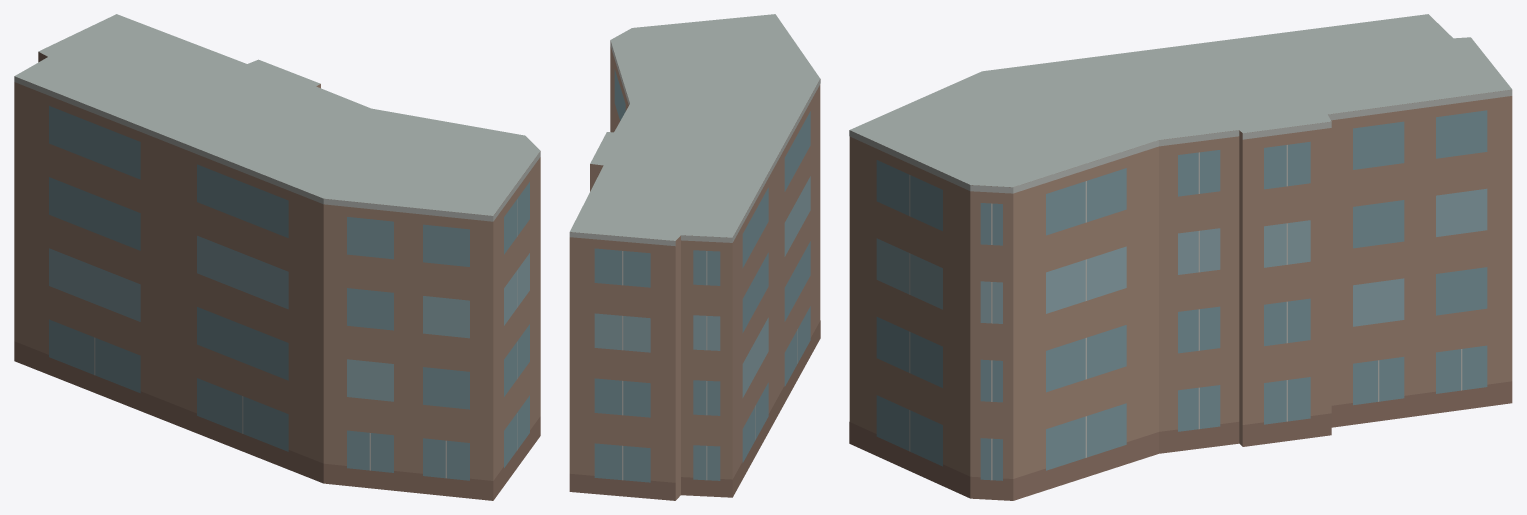
The model's file is survey-upis-32516284.glb.
The picture shows the model from 3 angles, left to right: view 1: azimuth 30°, elevation 25°; view 2: azimuth 150°, elevation 25°; view 3: azimuth 270°, elevation 25°; orthographic projection. The views are drawn at different scales.
Parts seen in each view (by area): view 1: survey-upis-32516284.tmp; view 2: survey-upis-32516284.tmp; view 3: survey-upis-32516284.tmp.
Boxes of the visible parts, x1,y1,x2,y2 form: survey-upis-32516284.tmp: (14, 14, 540, 500); survey-upis-32516284.tmp: (569, 14, 820, 500); survey-upis-32516284.tmp: (849, 14, 1512, 500).
Bounding box in the file's own units: 14.35 × 12.1 × 23.19.
